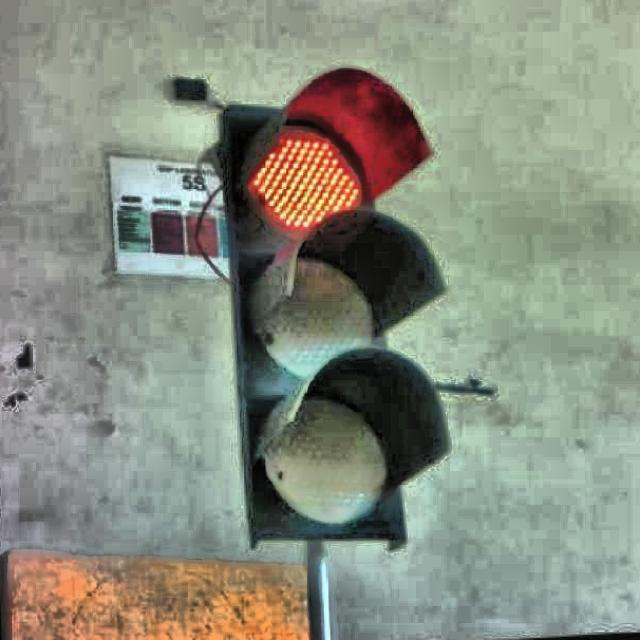red: (223, 96, 433, 552)
